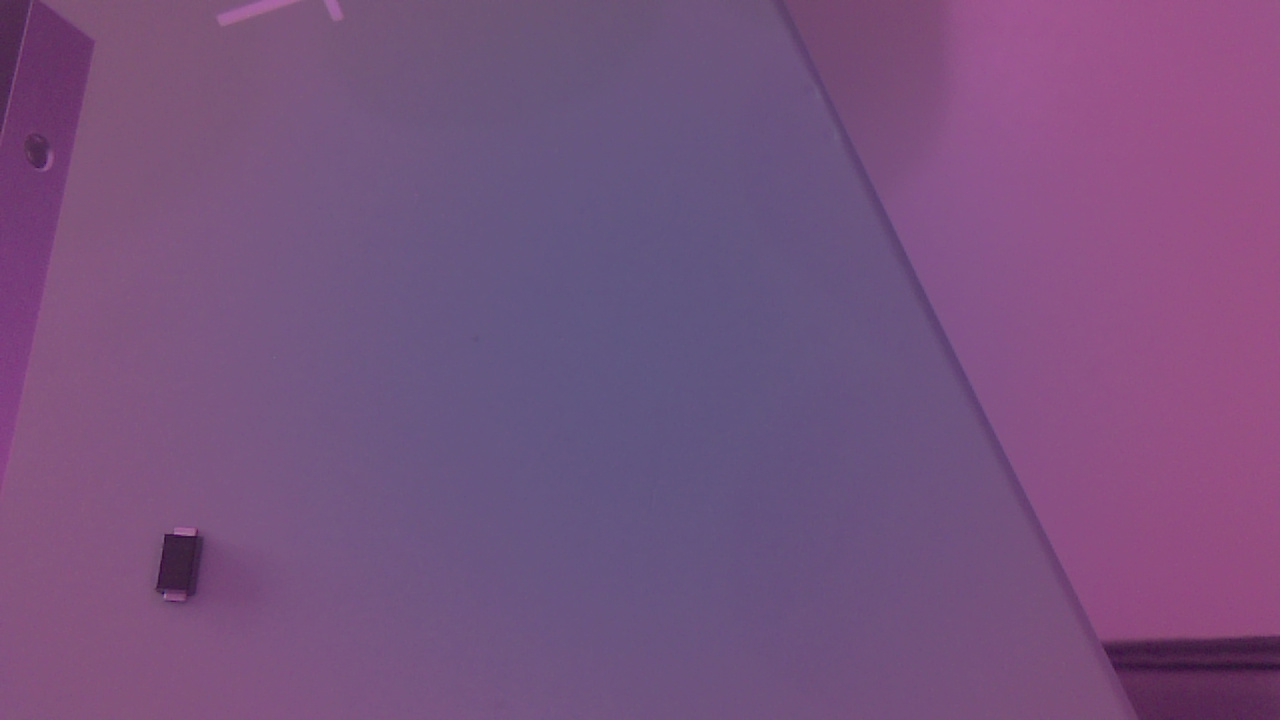Diode: (158, 527, 212, 613)
